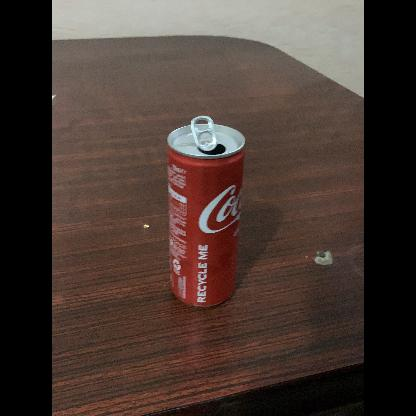Lid_Open: (188, 107, 235, 156)
Tin_Can: (160, 114, 252, 316)
